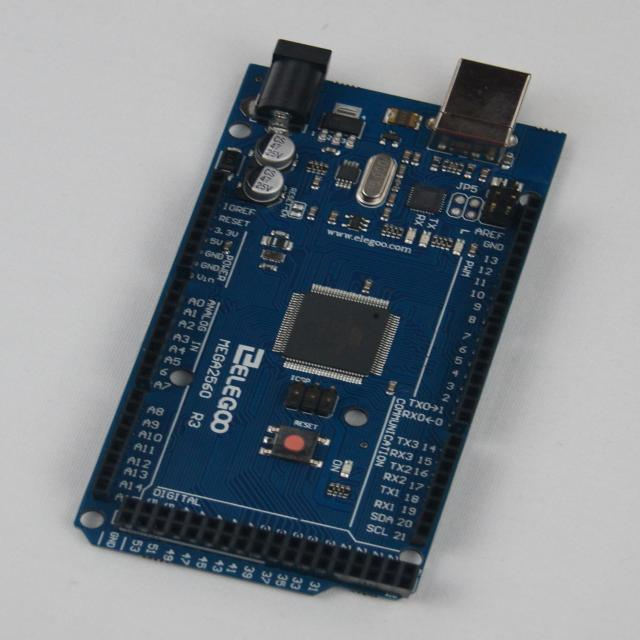Arduino Mega 2560 -Blue-: (76, 41, 565, 597)
